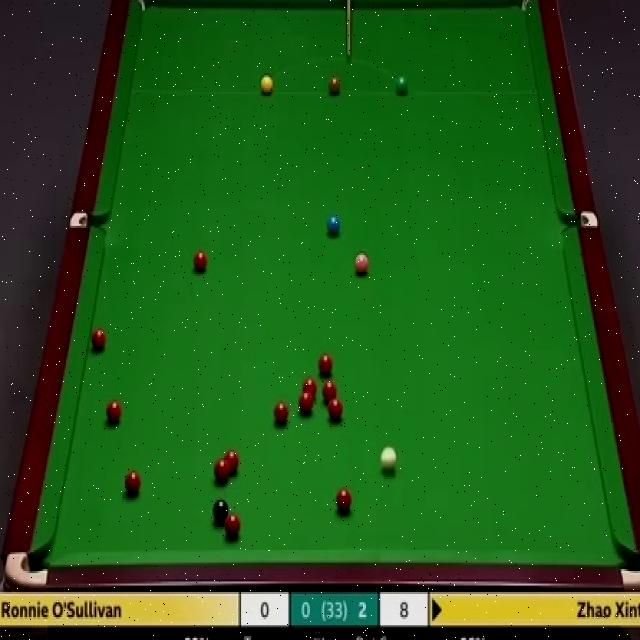black-ball: (212, 496, 230, 529)
blue-ball: (327, 214, 343, 239)
brown-ball: (328, 76, 342, 98)
green-ball: (393, 75, 408, 98)
pink-ball: (352, 248, 372, 278)
red-ball: (224, 515, 243, 543), (316, 351, 335, 378), (212, 459, 231, 485), (105, 398, 122, 427), (124, 470, 141, 497), (90, 326, 107, 353), (192, 250, 210, 274), (272, 402, 289, 427), (335, 489, 352, 514), (297, 392, 314, 416), (301, 378, 318, 400), (225, 449, 241, 472), (328, 397, 343, 421), (325, 383, 341, 402)
white-ball: (380, 445, 398, 473)
yellow-ball: (260, 75, 274, 96)
